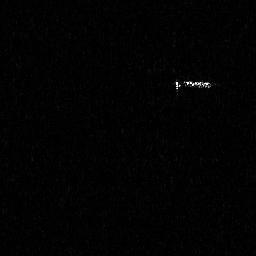ship: (172, 76, 214, 94)
